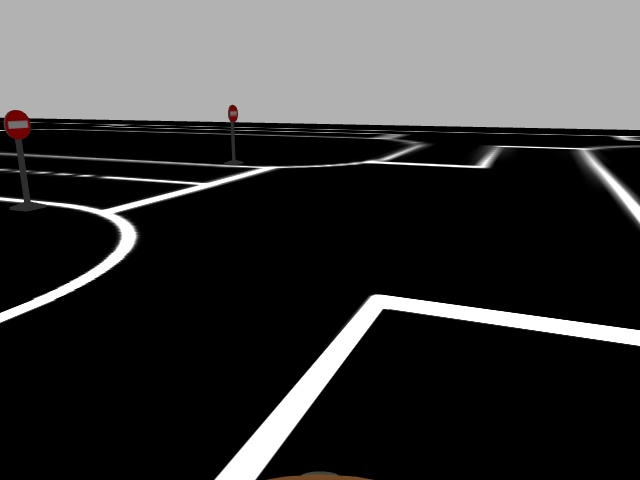prohibited: (3, 108, 32, 142), (226, 103, 240, 125)
